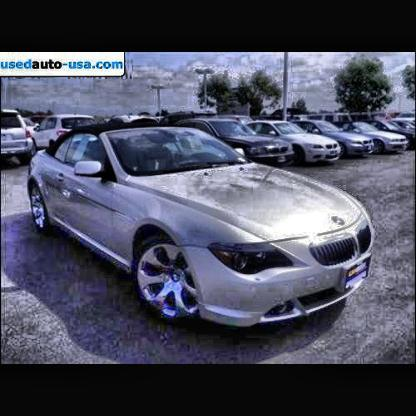BMW 6 Series Convertible 2007: (30, 128, 377, 345)
